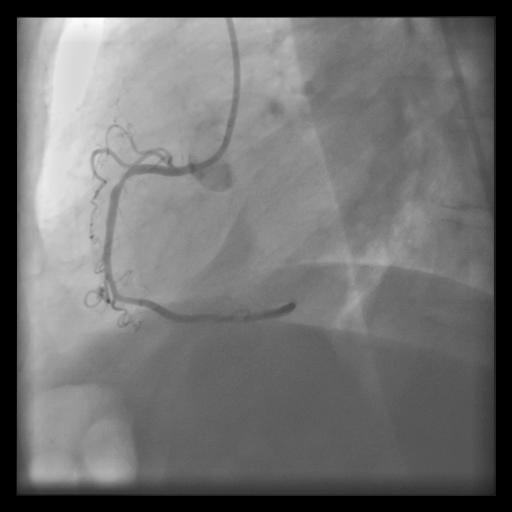Stenosis: (113, 169, 134, 183)
